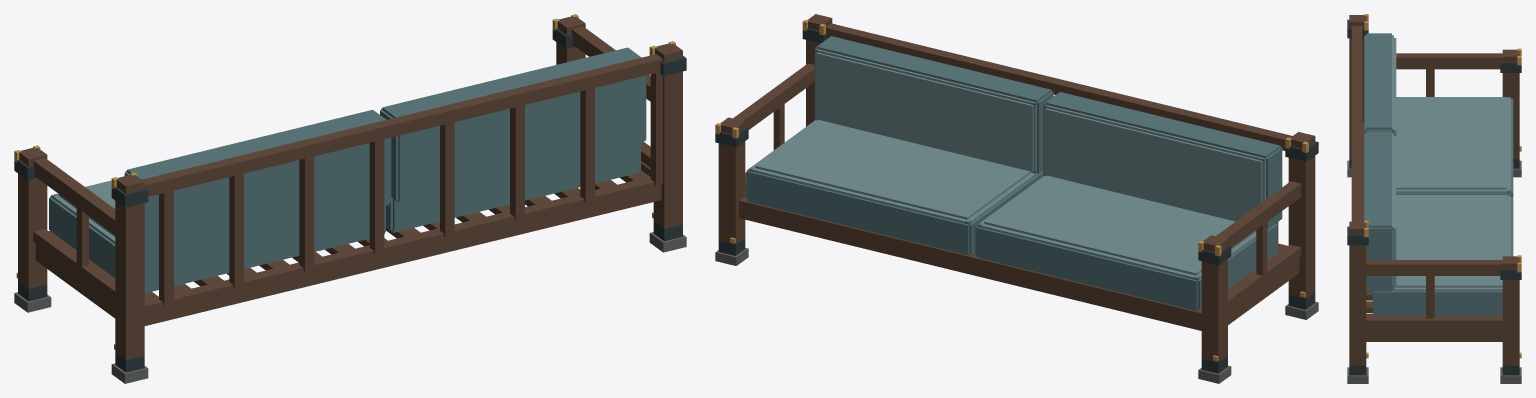
Rendered from visual-far.glb.
The picture shows the model from 3 angles, left to right: view 1: azimuth 30°, elevation 25°; view 2: azimuth 150°, elevation 25°; view 3: azimuth 270°, elevation 25°; orthographic projection. The views are drawn at different scales.
Visible parts, largest first — view 1: 沙发框架, 沙发软垫靠背; view 2: 沙发软垫靠背, 沙发框架; view 3: 沙发软垫靠背, 沙发框架.
Boxes of the visible parts, x1,y1,x2,y2 form: 沙发框架: (14, 14, 686, 383); 沙发软垫靠背: (49, 47, 646, 293); 沙发软垫靠背: (746, 36, 1282, 311); 沙发框架: (715, 14, 1318, 383); 沙发软垫靠背: (1364, 33, 1513, 315); 沙发框架: (1347, 14, 1521, 383).
Size of the model in its own units: 2.4 by 0.8 by 0.82.
Materials: 6 (6 with a texture image).
